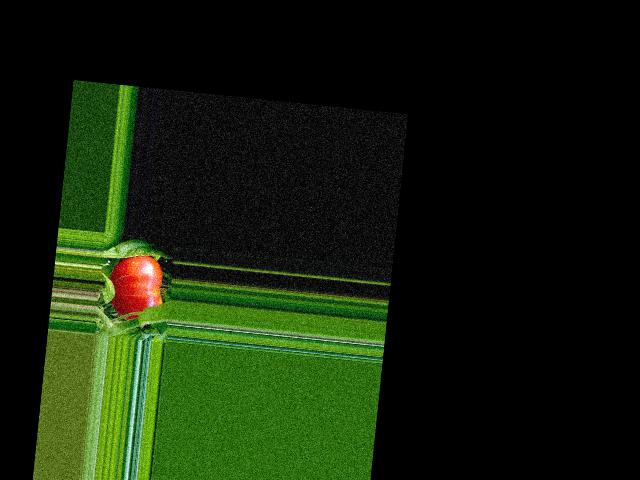tomato: (106, 251, 167, 323)
